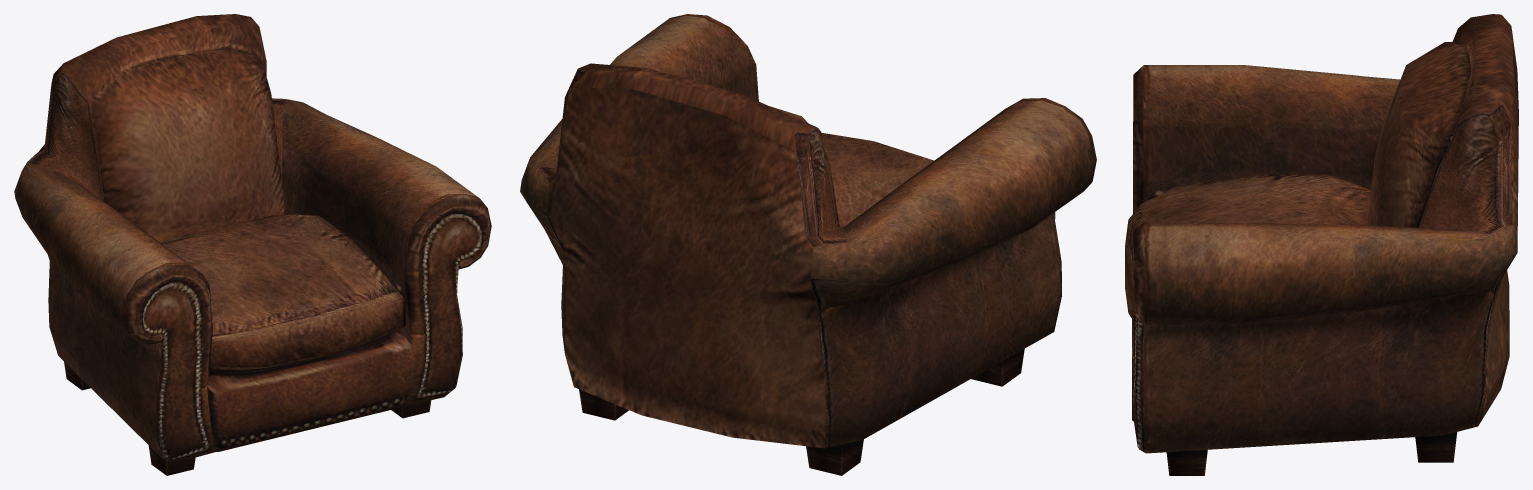
File: easy_chair.obj
The picture shows the model from 3 angles, left to right: view 1: azimuth 30°, elevation 25°; view 2: azimuth 150°, elevation 25°; view 3: azimuth 270°, elevation 25°; orthographic projection. The views are drawn at different scales.
Parts seen in each view (by area): view 1: Model001_4_chair_1_0_0; view 2: Model001_4_chair_1_0_0; view 3: Model001_4_chair_1_0_0.
Part boxes in pixels (x1,y1,x2,y2): Model001_4_chair_1_0_0: (14, 14, 491, 475); Model001_4_chair_1_0_0: (520, 14, 1096, 475); Model001_4_chair_1_0_0: (1125, 14, 1518, 475).
Bounding box in the file's own units: 1.39 × 1.13 × 1.13.
